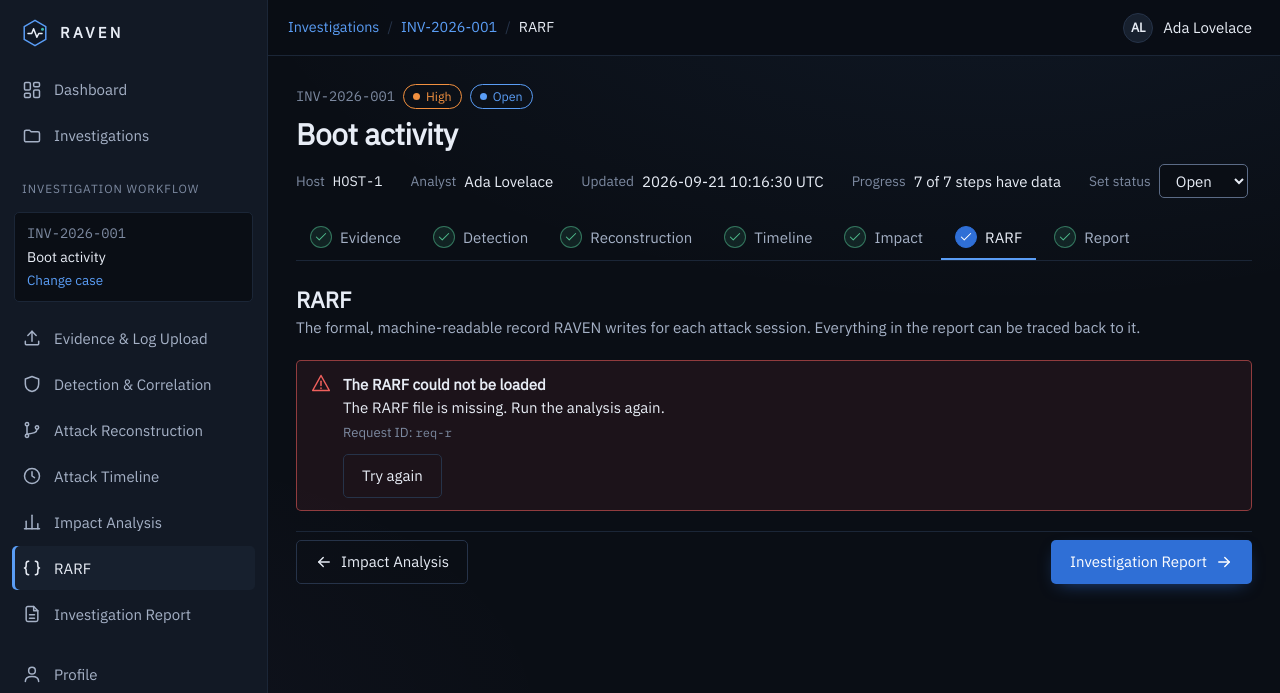
Test: RARF: sessions and other states › shows another error with a retry
The image size is (1280, 693).
Expected: the message shows "The RARF could not be loaded", [343,375,546,394]
Expected: the message shows "Run the analysis again.", [343,398,665,417]
Click the button "Try again".
click(392, 476)  # box [343,454,442,498]
(page scrolled)
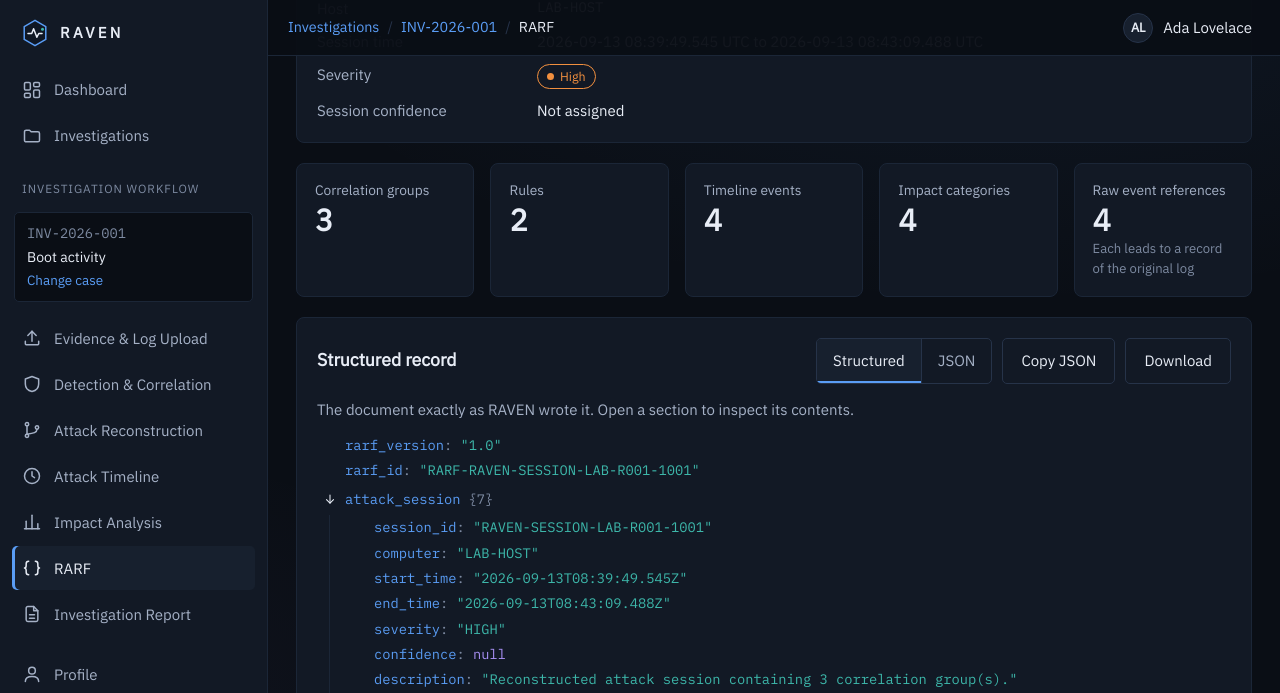
Expected: the heading "Structured record" is shown, [317,349,456,372]
